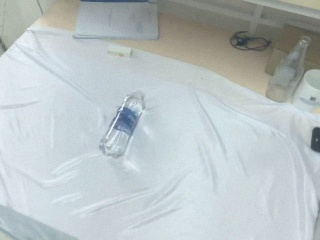bottle: (265, 36, 311, 103), (101, 91, 145, 158)
cup: (291, 69, 320, 115)
